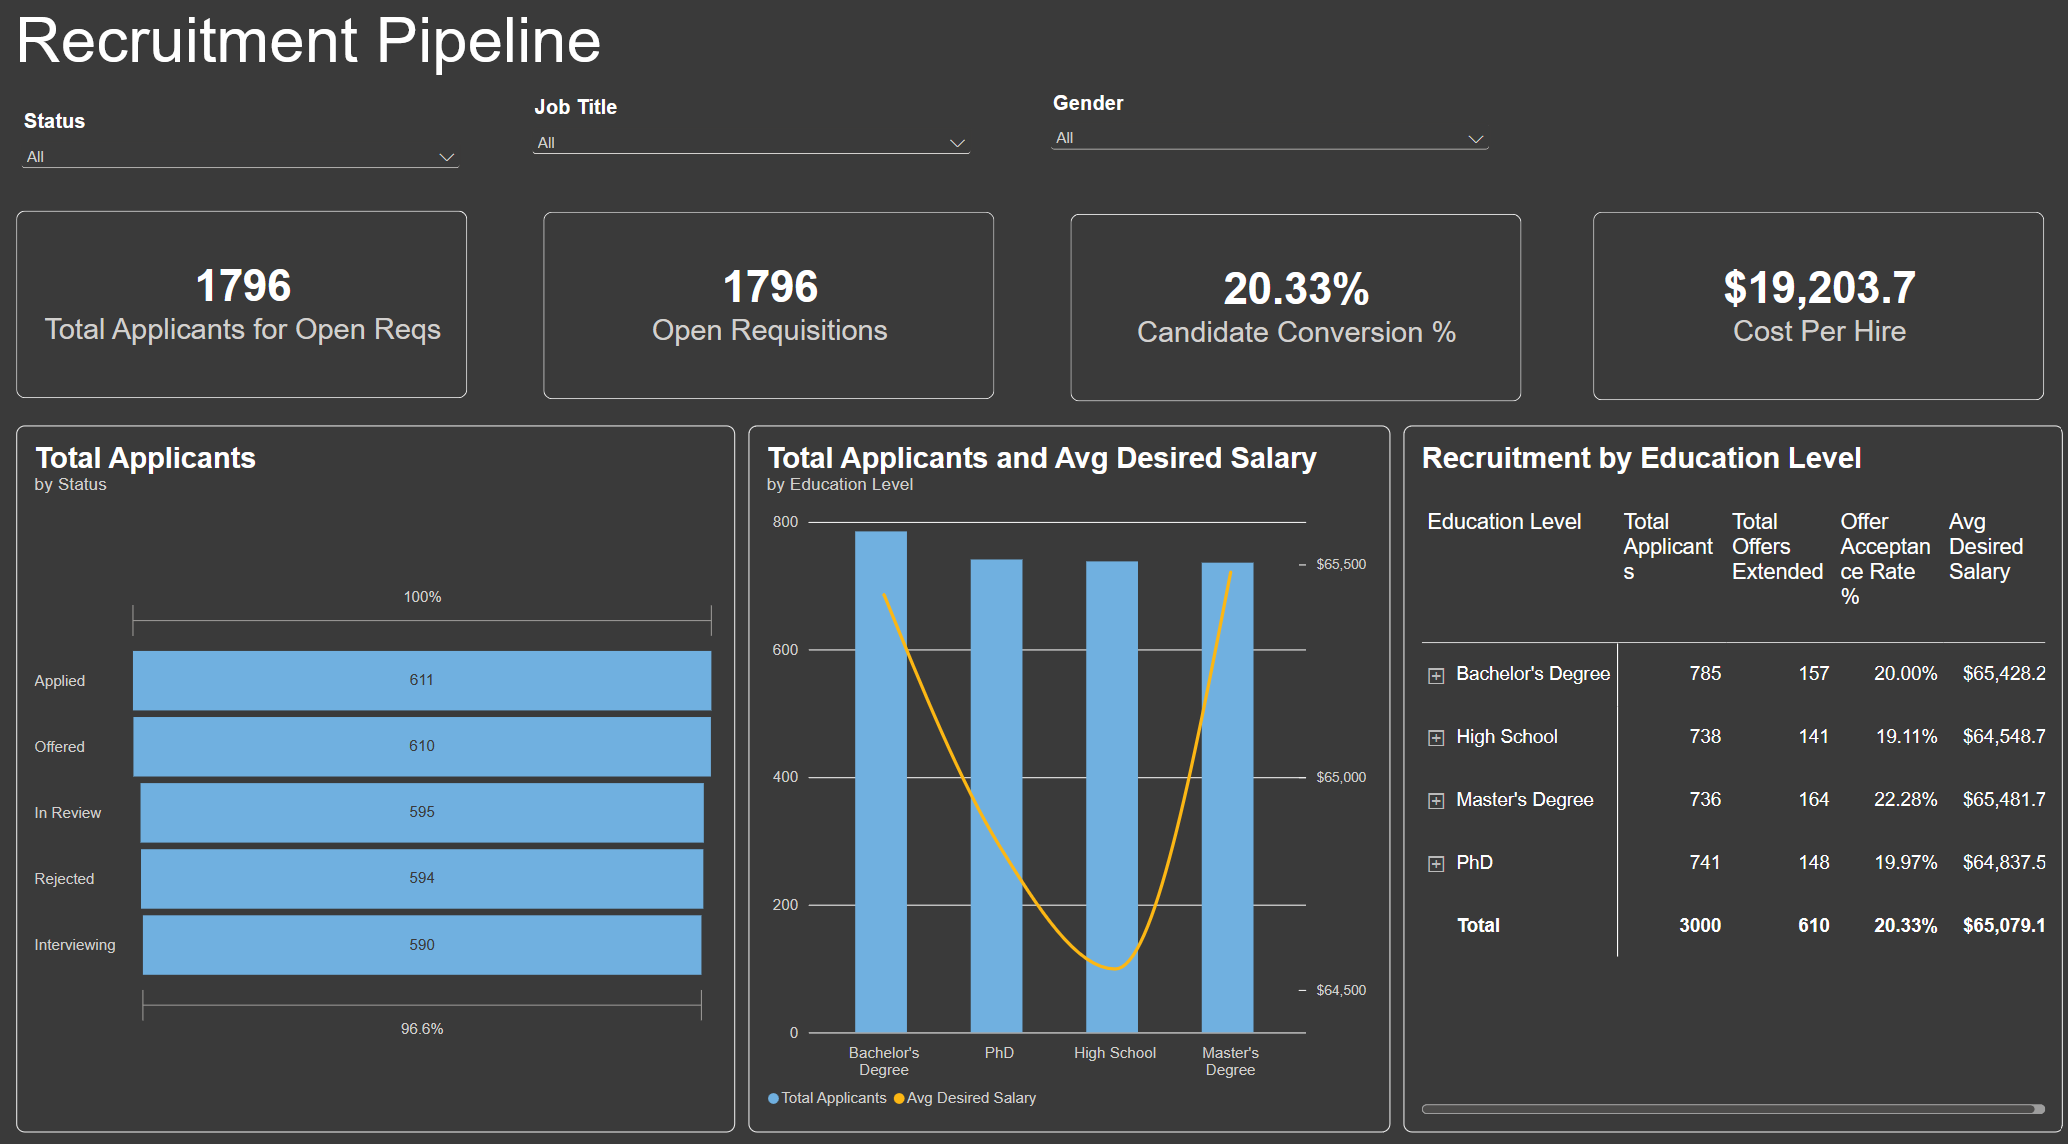

The page's visual inventory and layout, read from the dashboard file:
{"tool":"powerbi","page":{"name":"Recruitment Pipeline","canvas":[1920,1080],"ordinal":3},"visuals":[{"type":"cardVisual","fields":{"Data":["Measures_.Cost Per Hire"]},"box":[1479.4,208.2,416,173.7],"z":0},{"type":"cardVisual","fields":{"Data":["Measures_.Open Requisitions"]},"box":[511,208.2,416,173],"z":1000},{"type":"cardVisual","fields":{"Data":["Measures_.Candidate Conversion %"]},"box":[996.8,209.8,416,173],"z":2000},{"type":"cardVisual","fields":{"Data":["Measures_.Total Applicants for Open Reqs"]},"box":[25.2,206.6,416,173.7],"z":3000},{"type":"funnel","fields":{"Category":["dim_recruitment.Status"],"Y":["Measures_.Total Applicants"]},"box":[25.2,405.3,662.4,651.4],"z":4000},{"type":"lineStackedColumnComboChart","fields":{"Category":["dim_recruitment.Education Level"],"Y":["Measures_.Total Applicants"],"Y2":["Measures_.Avg Desired Salary"]},"box":[700.3,405.3,591.5,651.4],"z":5000},{"type":"pivotTable","title":"Recruitment by Education Level","fields":{"Rows":["dim_recruitment.Education Level","dim_recruitment.Gender"],"Values":["Measures_.Total Applicants","Measures_.Total Offers Extended","Measures_.Offer Acceptance Rate %","Measures_.Avg Desired Salary"]},"box":[1304.4,405.3,608.8,651.4],"z":6000},{"type":"textbox","box":[24.2,0,1870.2,101],"z":7000},{"type":"slicer","fields":{"Values":["dim_recruitment.Status"]},"box":[23.7,113.6,416.4,80.4],"z":8000},{"type":"slicer","fields":{"Values":["dim_recruitment.Job Title"]},"box":[494.8,101,416,80],"z":9000},{"type":"slicer","fields":{"Values":["dim_recruitment.Gender"]},"box":[973.5,96.9,416,80],"z":10000}]}

Visuals, with their boxes in screenshot pixels (x1, y1, x2, y2), scaled from the page's 1920x1080 canvas onto the 2068x1144 screenshot:
cardVisual - Measures_.Cost Per Hire: {"left": 1593, "top": 221, "right": 2042, "bottom": 405}
cardVisual - Measures_.Open Requisitions: {"left": 550, "top": 221, "right": 998, "bottom": 404}
cardVisual - Measures_.Candidate Conversion %: {"left": 1074, "top": 222, "right": 1522, "bottom": 405}
cardVisual - Measures_.Total Applicants for Open Reqs: {"left": 27, "top": 219, "right": 475, "bottom": 403}
funnel - dim_recruitment.Status x Measures_.Total Applicants: {"left": 27, "top": 429, "right": 741, "bottom": 1119}
lineStackedColumnComboChart - dim_recruitment.Education Level x Measures_.Total Applicants: {"left": 754, "top": 429, "right": 1391, "bottom": 1119}
"Recruitment by Education Level" pivotTable: {"left": 1405, "top": 429, "right": 2061, "bottom": 1119}
textbox: {"left": 26, "top": 0, "right": 2040, "bottom": 107}
slicer - dim_recruitment.Status: {"left": 26, "top": 120, "right": 474, "bottom": 205}
slicer - dim_recruitment.Job Title: {"left": 533, "top": 107, "right": 981, "bottom": 192}
slicer - dim_recruitment.Gender: {"left": 1049, "top": 103, "right": 1497, "bottom": 187}
